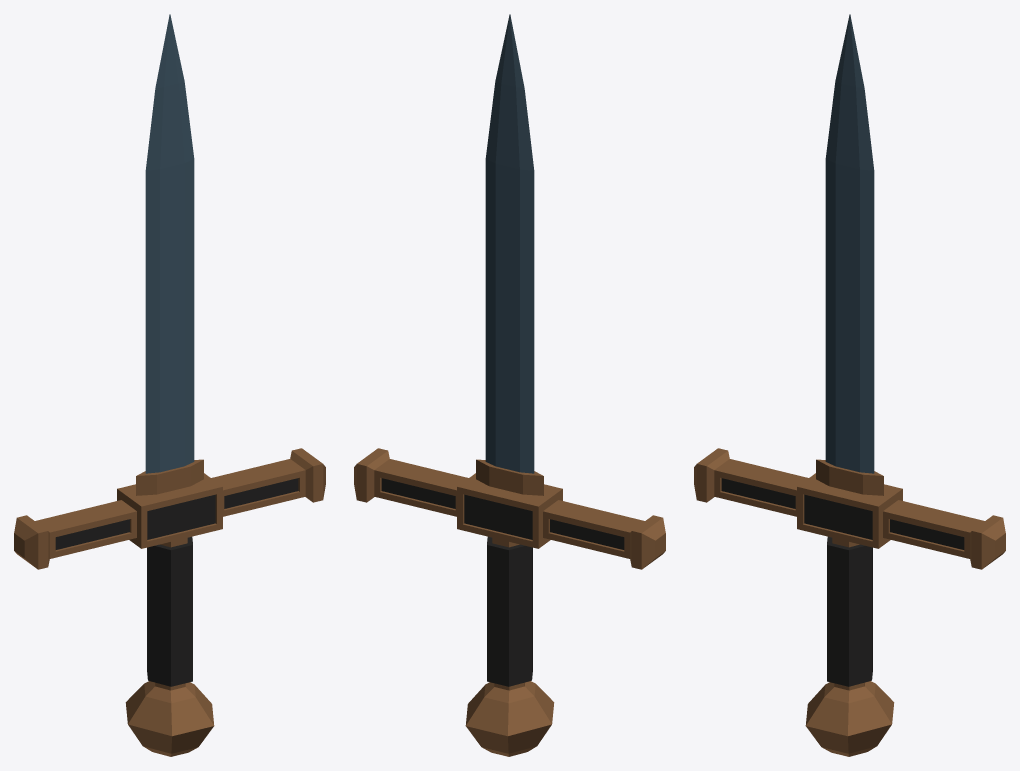
File: Daga.fbx
3 renders of one model, left to right at view 1: azimuth 30°, elevation 25°; view 2: azimuth 150°, elevation 25°; view 3: azimuth 330°, elevation 25°, orthographic.
Visible parts, largest first — view 1: Daga; view 2: Daga; view 3: Daga.
Boxes of the visible parts, left/top/right/bottom form: Daga: left=14, top=14, right=325, bottom=756; Daga: left=354, top=14, right=665, bottom=756; Daga: left=694, top=14, right=1005, bottom=756.
Size of the model in its own units: 35.12 by 81.7 by 9.37.
